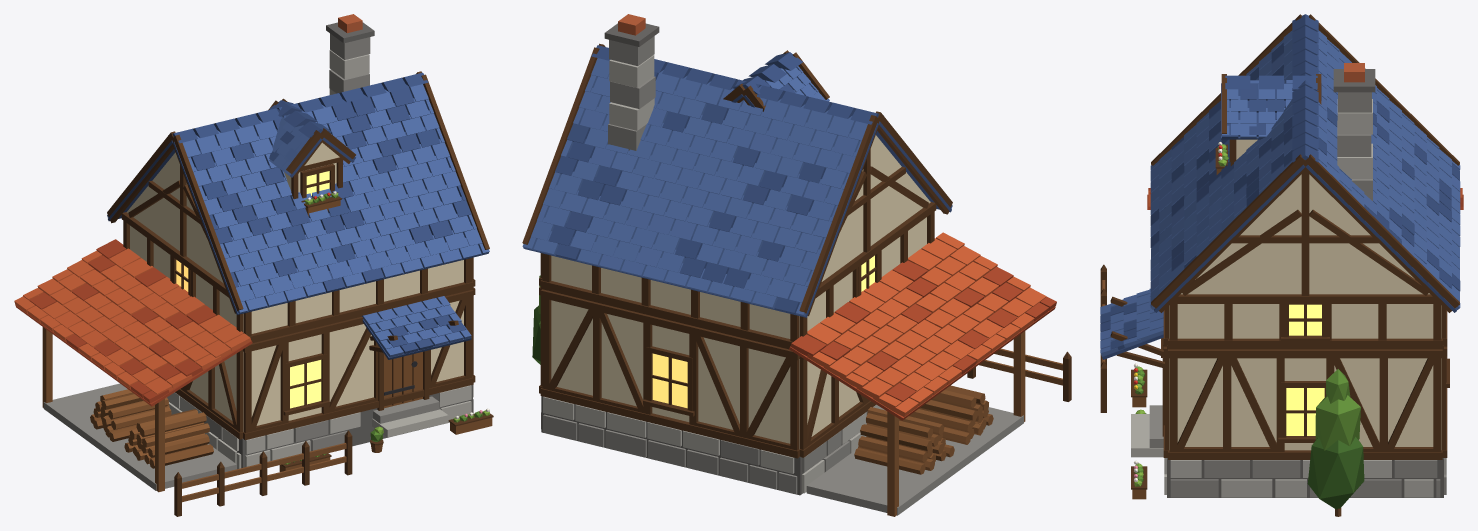
File: Cottage_04_Woodshed.fbx
3 views of the same model, side by side, from view 1: azimuth 30°, elevation 25°; view 2: azimuth 150°, elevation 25°; view 3: azimuth 270°, elevation 25° (orthographic). The views are drawn at different scales.
Parts seen in each view (by area): view 1: Cottage_04_Woodshed_LOD0; view 2: Cottage_04_Woodshed_LOD0; view 3: Cottage_04_Woodshed_LOD0.
Boxes of the visible parts, bbox=[...] form: Cottage_04_Woodshed_LOD0: bbox=[14, 14, 493, 516]; Cottage_04_Woodshed_LOD0: bbox=[522, 14, 1071, 516]; Cottage_04_Woodshed_LOD0: bbox=[1100, 14, 1463, 516].
Size of what is drawn, in the model's own units: 9.47 by 8.23 by 6.66.
